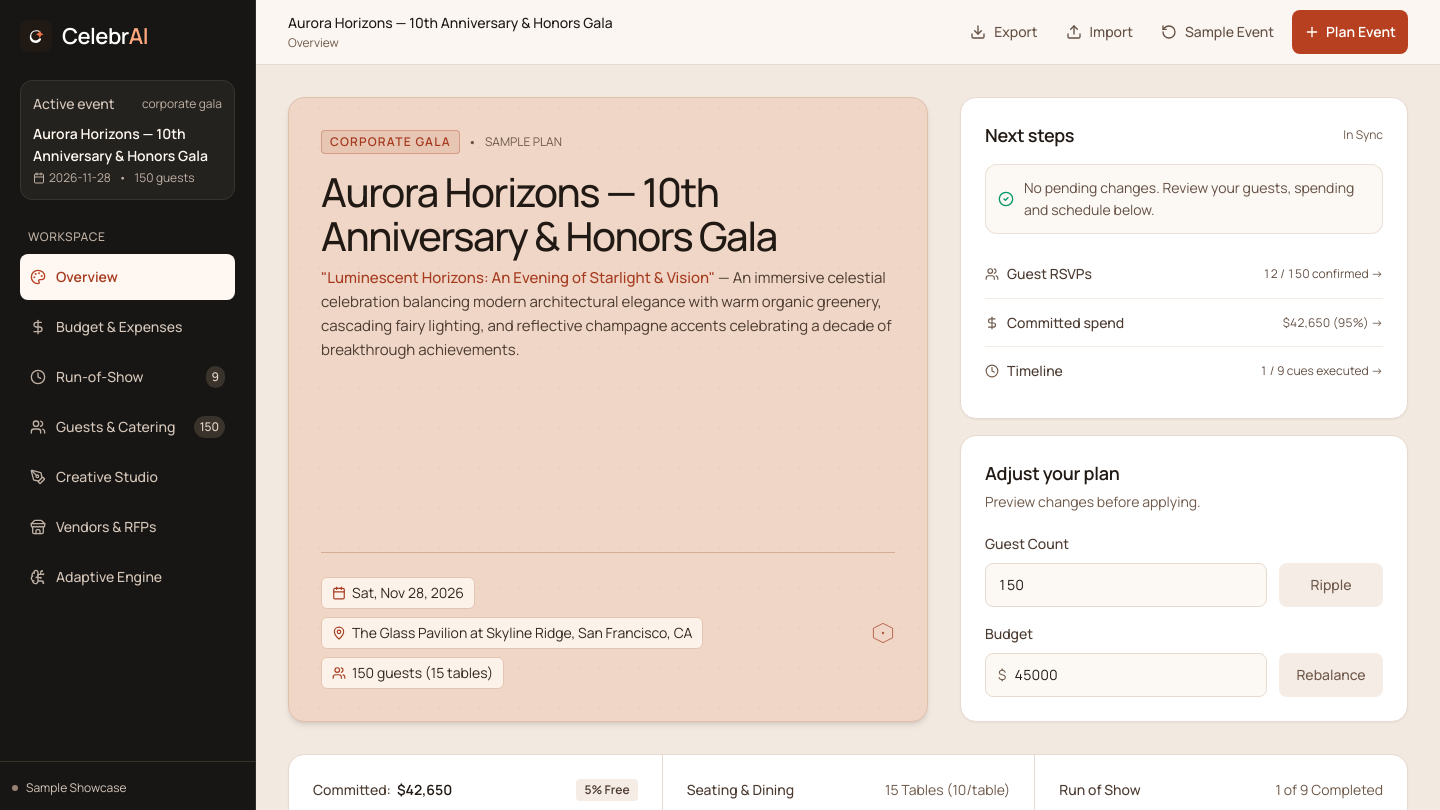
Test case: CelebrAI UI Integration & Flow Tests › opens and closes the Event Creation Wizard dialog
Click the button with aria-label "Create new celebration plan": (1350, 32) [1292,10,1408,54]
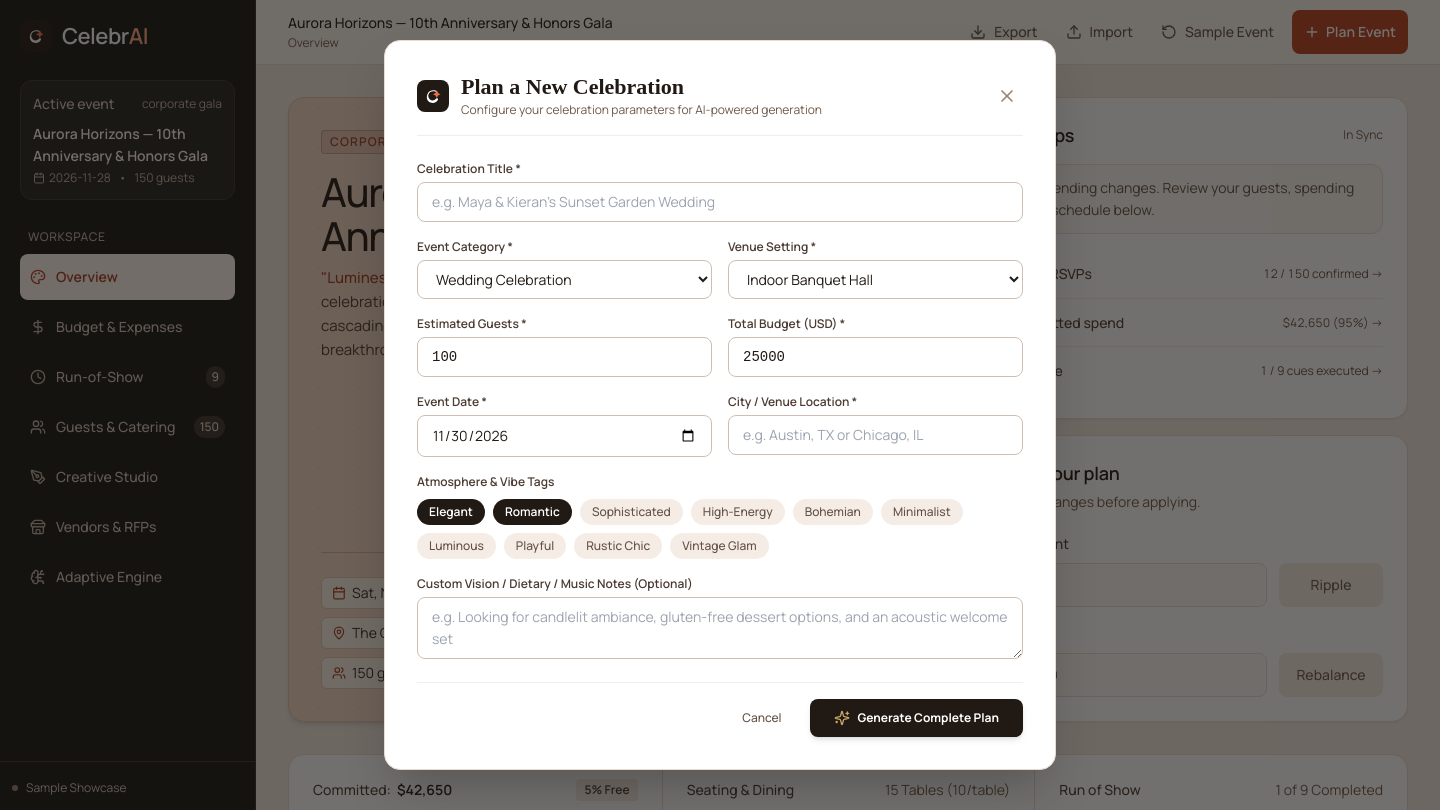
Expected: the dialog is shown
Expected: the heading "Plan a New Celebration" is shown, [461,74,684,99]
Click the button "Cancel": (762, 718) [726,701,798,735]
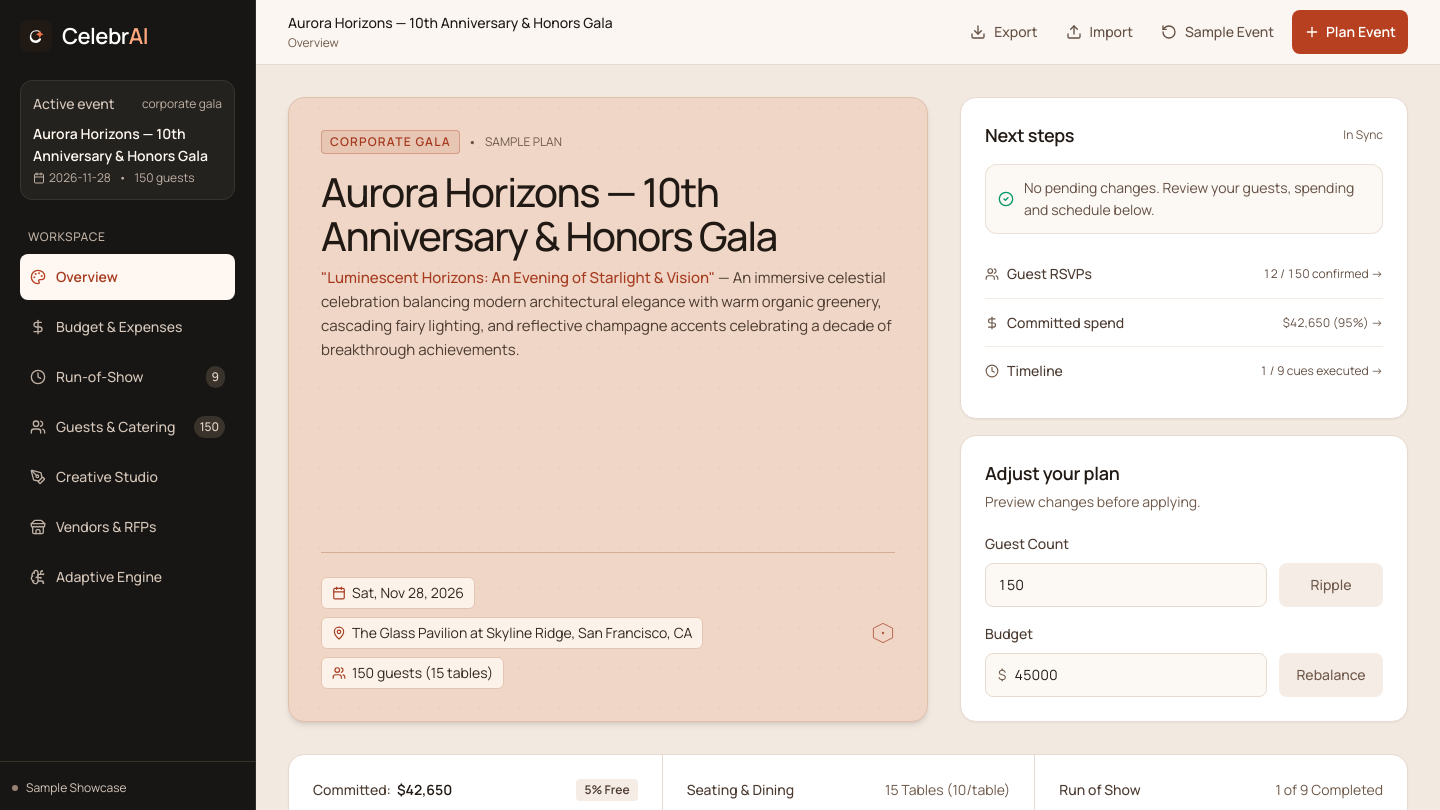
Expected: the dialog is gone
